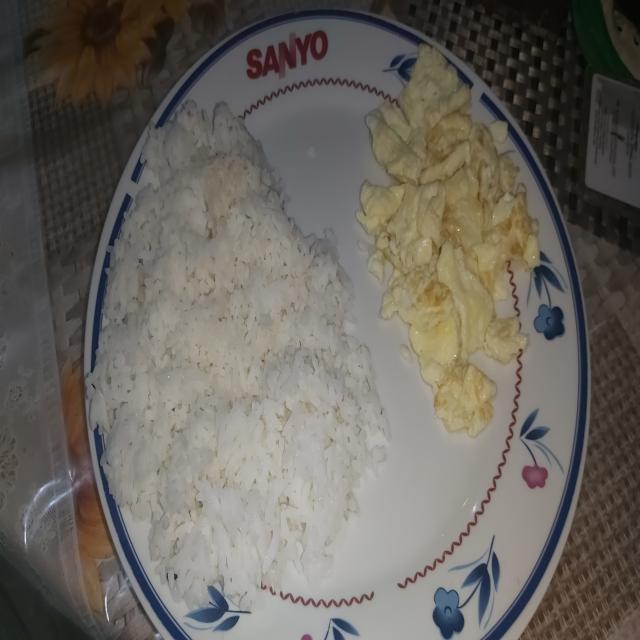Chicken -Chicken Inasal-: (94, 99, 363, 598)
